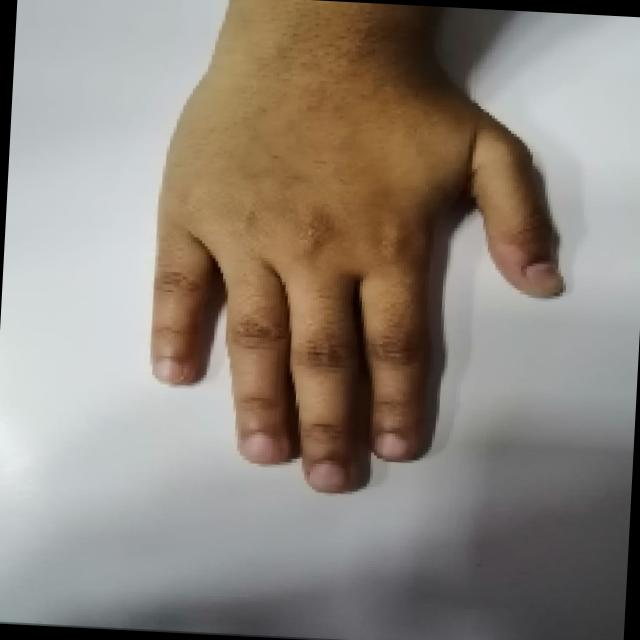Nail: (239, 431, 282, 463), (307, 461, 347, 492), (524, 261, 562, 292), (373, 432, 406, 459), (151, 357, 185, 383)
